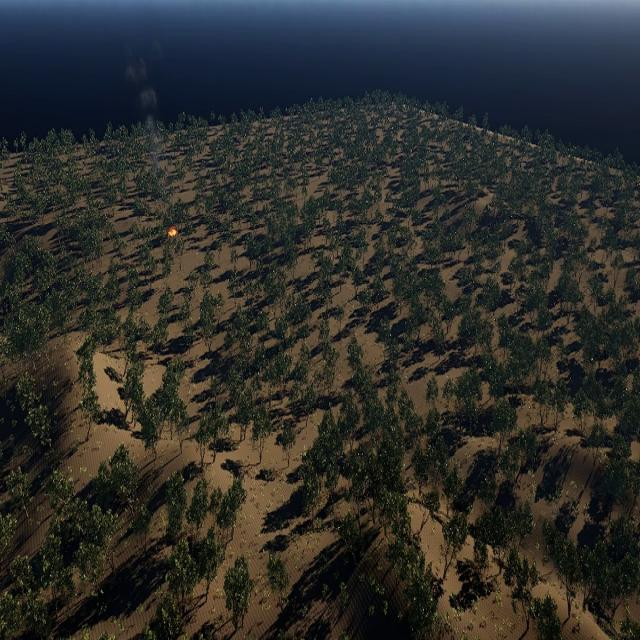fire: (169, 229, 178, 239)
smoke: (122, 39, 170, 176)
